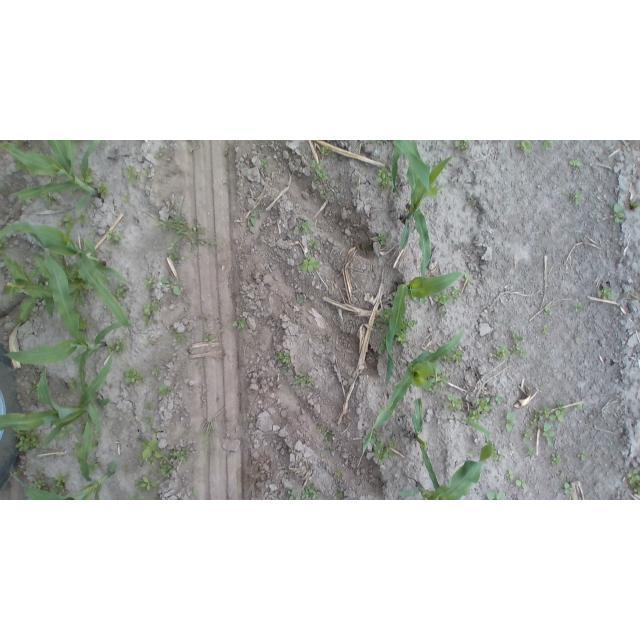Maize: (4, 247, 125, 394), (0, 352, 116, 482), (358, 331, 463, 470), (0, 223, 128, 327), (386, 270, 462, 384), (398, 156, 453, 287), (2, 140, 101, 212), (397, 443, 493, 500), (11, 468, 117, 500), (410, 398, 441, 491), (390, 141, 431, 194)
Weeds: (1, 251, 54, 322), (150, 206, 217, 251), (520, 400, 564, 456), (491, 333, 527, 358), (69, 267, 92, 303), (371, 435, 397, 466), (469, 396, 492, 420), (157, 276, 183, 297), (14, 431, 40, 452), (142, 441, 162, 466), (300, 252, 323, 272), (311, 161, 331, 184), (289, 372, 316, 388), (123, 369, 144, 388), (445, 392, 463, 414), (435, 293, 450, 319), (123, 164, 142, 184), (626, 467, 640, 493), (303, 481, 322, 500), (140, 297, 160, 315), (379, 168, 394, 191), (54, 474, 70, 495), (202, 419, 215, 444), (279, 349, 298, 366), (429, 374, 449, 390), (375, 306, 390, 326), (498, 413, 514, 431), (513, 140, 533, 154), (137, 478, 160, 490), (598, 287, 617, 301), (483, 490, 509, 500), (548, 451, 564, 467), (159, 459, 175, 475), (146, 274, 161, 291), (403, 317, 421, 331), (170, 449, 188, 463), (613, 203, 626, 222), (232, 317, 248, 332), (114, 284, 129, 299), (60, 428, 77, 441), (449, 287, 463, 302), (296, 221, 310, 235), (106, 229, 122, 241), (35, 479, 52, 490), (62, 215, 76, 228), (110, 340, 125, 352), (67, 377, 79, 392), (574, 186, 584, 203), (158, 386, 171, 399), (576, 447, 590, 459), (259, 156, 273, 168), (97, 185, 111, 197), (456, 141, 471, 152), (248, 209, 257, 227), (168, 251, 181, 263), (463, 271, 474, 284), (562, 484, 576, 494), (337, 489, 349, 500), (453, 349, 464, 361), (286, 489, 298, 500), (515, 479, 527, 489), (572, 302, 584, 312), (324, 429, 334, 441), (381, 338, 388, 355), (296, 293, 305, 306), (80, 213, 89, 226), (569, 159, 583, 167), (541, 325, 552, 335), (543, 140, 554, 150), (79, 321, 90, 331), (378, 232, 387, 244), (125, 494, 142, 500), (307, 239, 317, 249), (333, 470, 344, 479), (398, 332, 406, 344), (503, 470, 513, 479), (321, 146, 331, 155), (143, 414, 153, 423), (631, 201, 639, 212), (545, 307, 554, 316), (153, 368, 162, 377), (124, 191, 132, 201), (224, 144, 231, 155), (495, 397, 506, 404), (186, 145, 195, 153), (317, 422, 324, 432), (88, 176, 96, 184), (146, 402, 154, 410), (576, 406, 583, 415), (156, 152, 165, 159), (46, 194, 55, 201), (144, 169, 153, 176), (444, 354, 452, 361), (560, 190, 568, 197), (320, 188, 327, 196), (205, 332, 212, 340), (12, 469, 20, 476), (1, 189, 10, 195), (176, 333, 185, 339), (192, 489, 198, 496), (152, 426, 158, 433), (16, 141, 24, 146), (247, 417, 254, 422), (374, 140, 382, 144)
